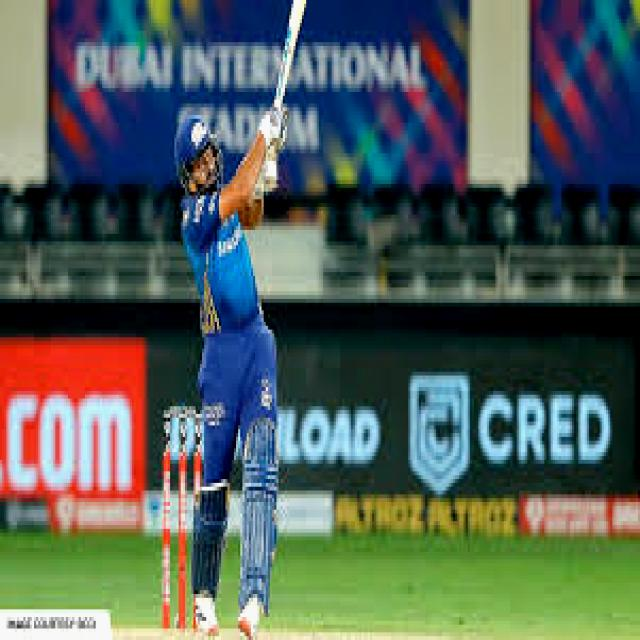toe: (293, 0, 308, 14)
